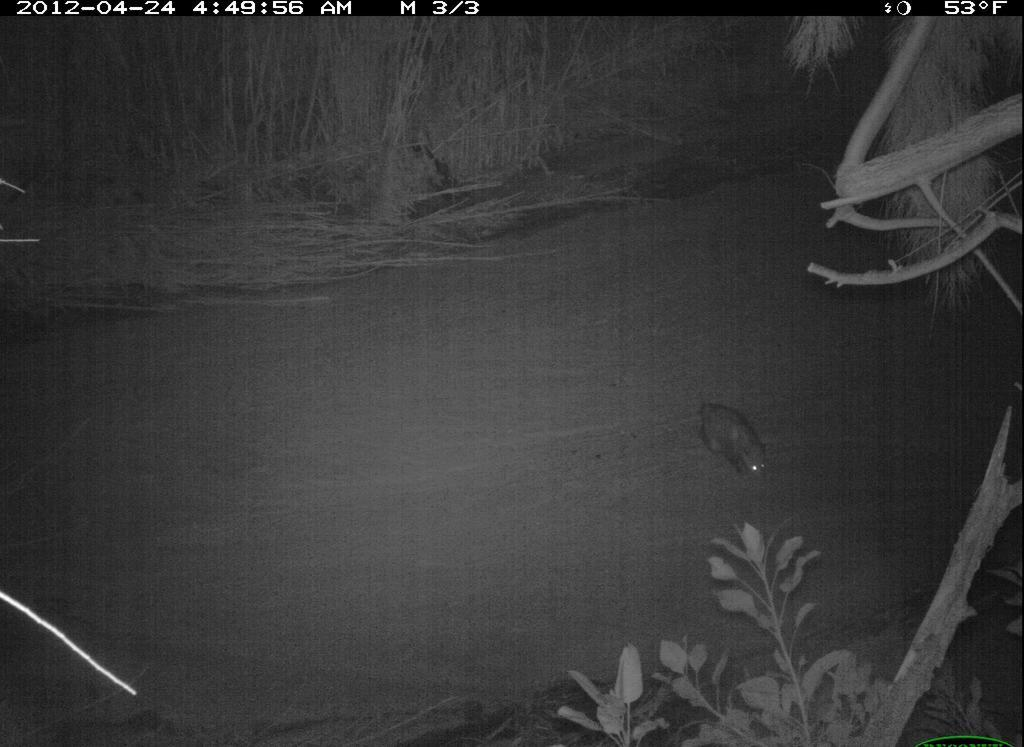opossum: (673, 390, 779, 484)
